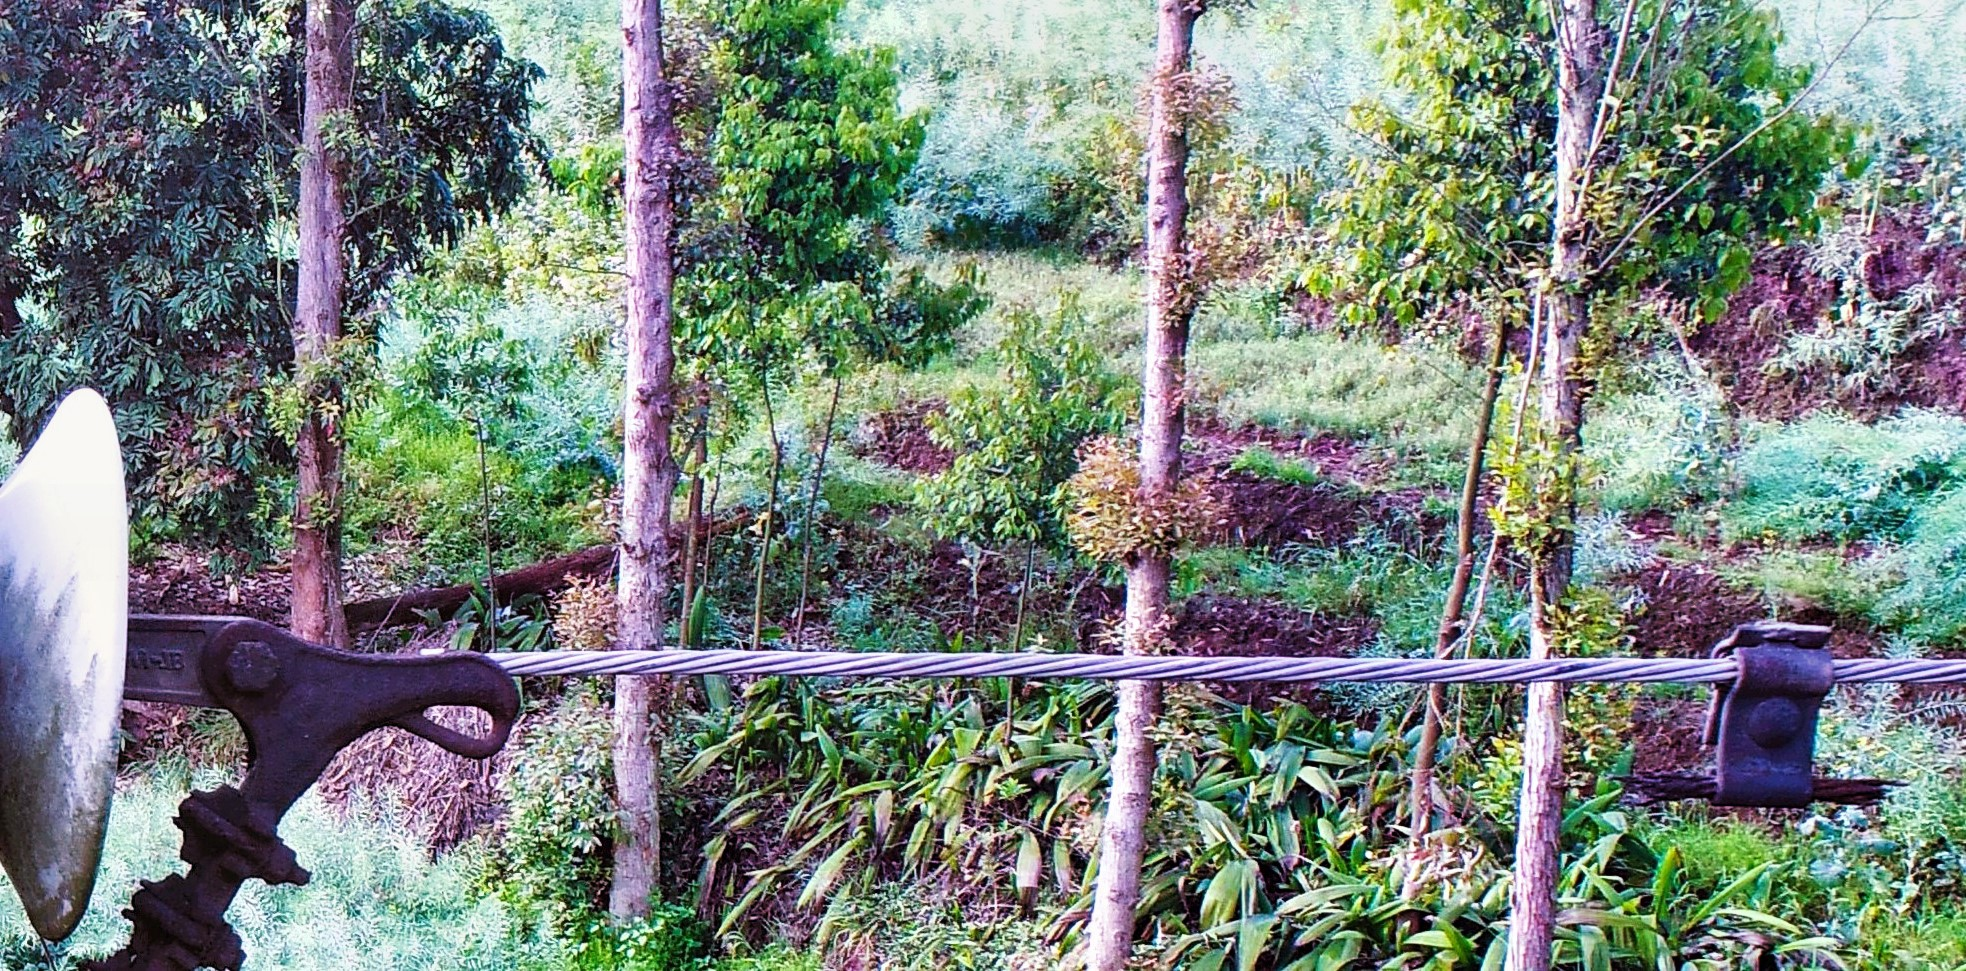Damage of shockproof hammer: (1607, 598, 1928, 829)
